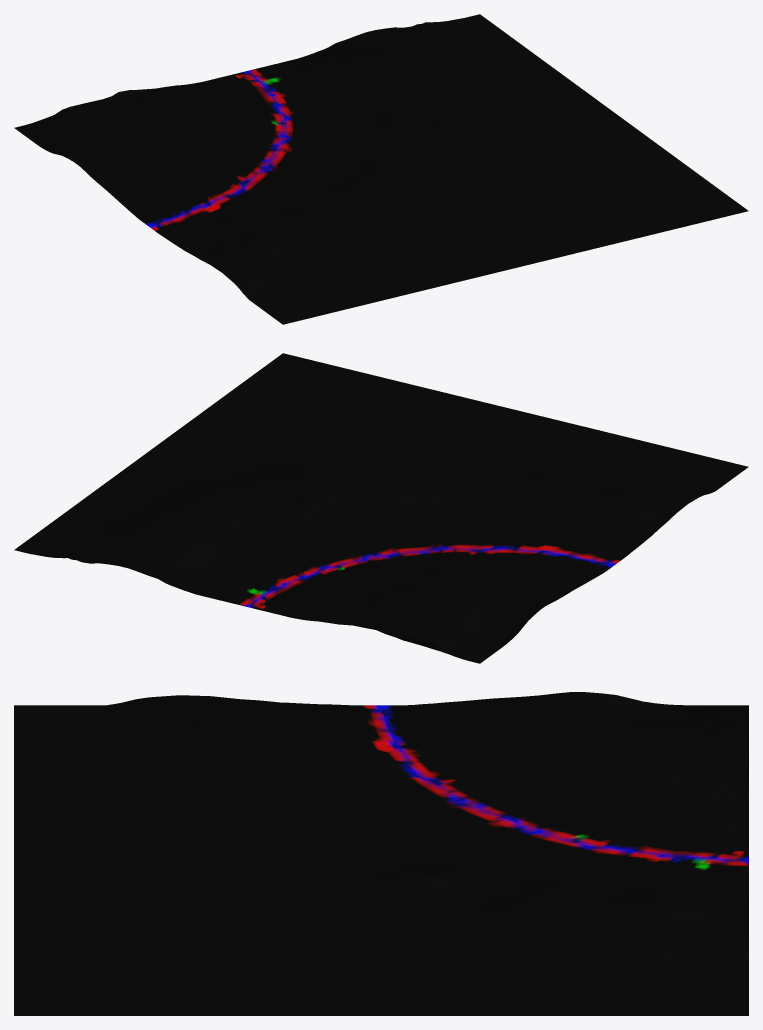
The model's file is Terrain_LoopForest_Distance_A_01.fbx.
The picture shows the model from 3 angles, top to bottom: view 1: azimuth 30°, elevation 25°; view 2: azimuth 150°, elevation 25°; view 3: azimuth 270°, elevation 25°; orthographic projection. The views are drawn at different scales.
Parts seen in each view (by area): view 1: Terrain_LoopForest_Distance_A_01; view 2: Terrain_LoopForest_Distance_A_01; view 3: Terrain_LoopForest_Distance_A_01.
Part boxes in pixels (box(x1,y1,x2,y2)): Terrain_LoopForest_Distance_A_01: box(14, 14, 748, 324); Terrain_LoopForest_Distance_A_01: box(14, 353, 748, 663); Terrain_LoopForest_Distance_A_01: box(14, 692, 748, 1015).
Size of the model in its own units: 30000 by 1008 by 30000.
